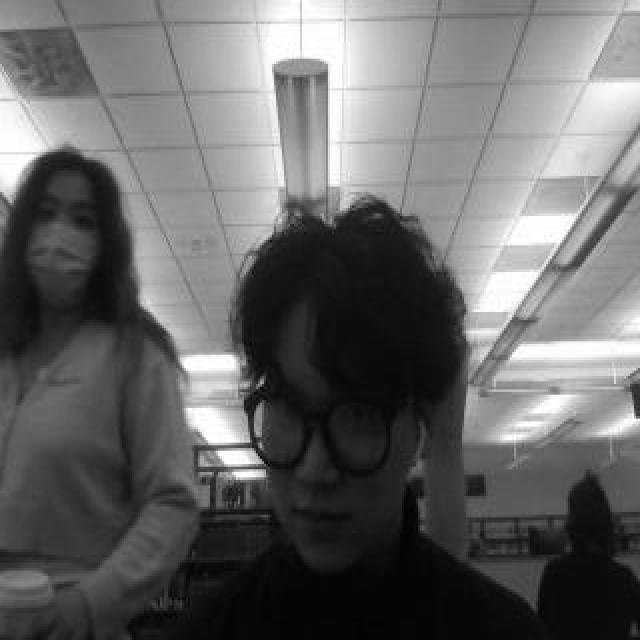Focused: (246, 291, 418, 569), (27, 178, 103, 332)
